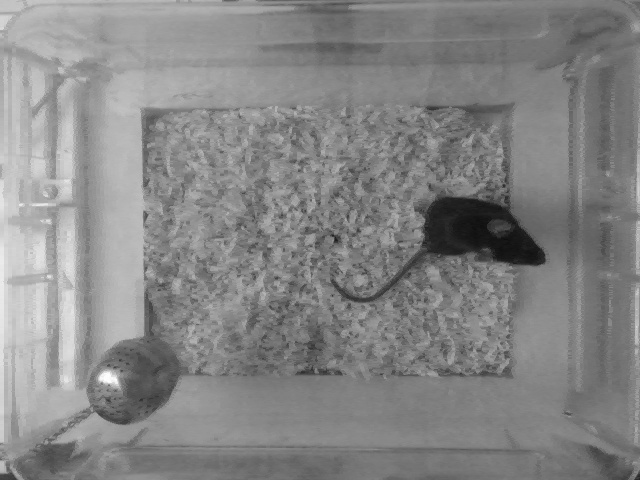mice: (331, 196, 547, 308)
